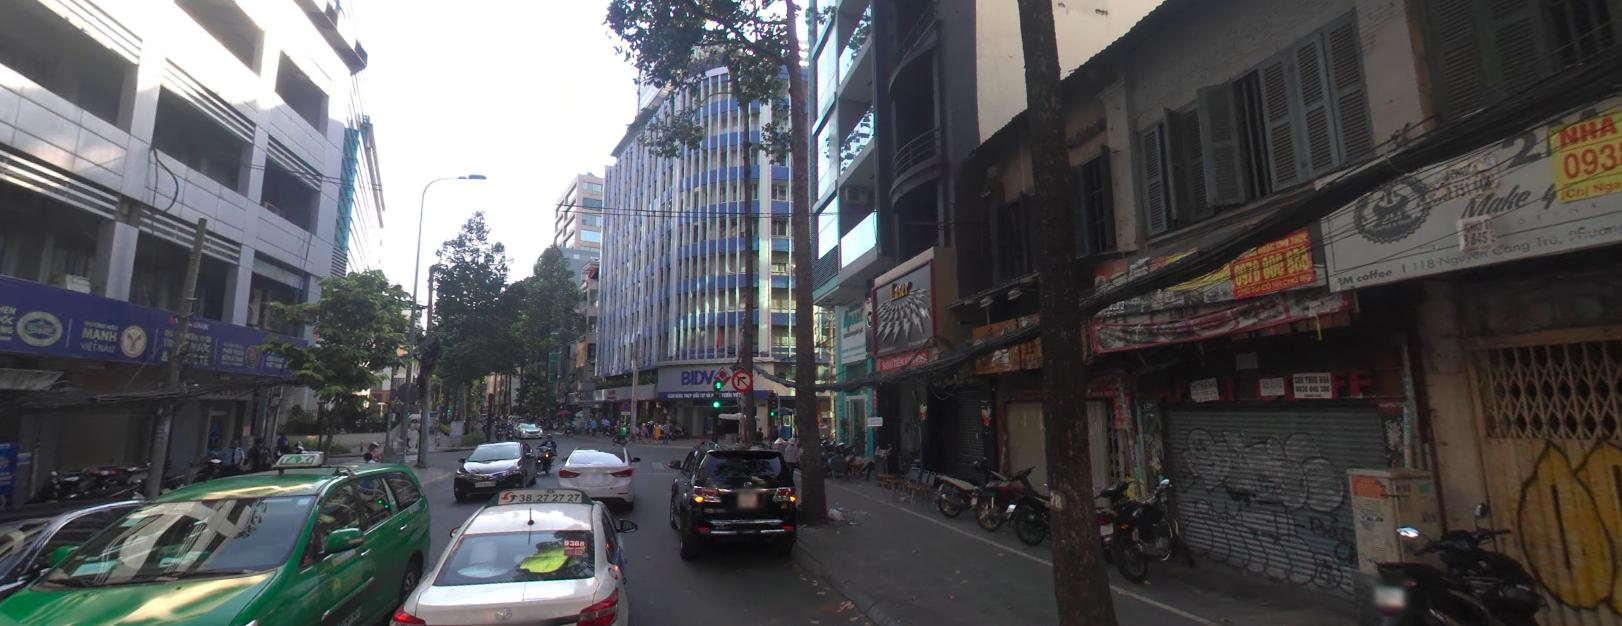Cam dung va do: (621, 400, 631, 409)
Cam re: (731, 368, 752, 390)
